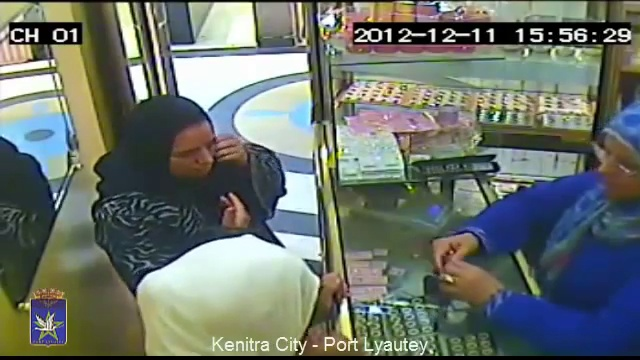face: (593, 142, 637, 198), (171, 129, 218, 180)
